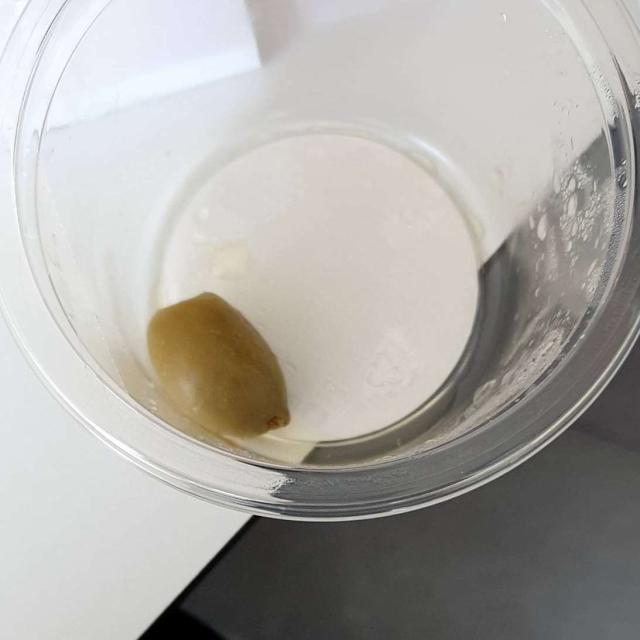green-olives: (156, 299, 294, 440)
